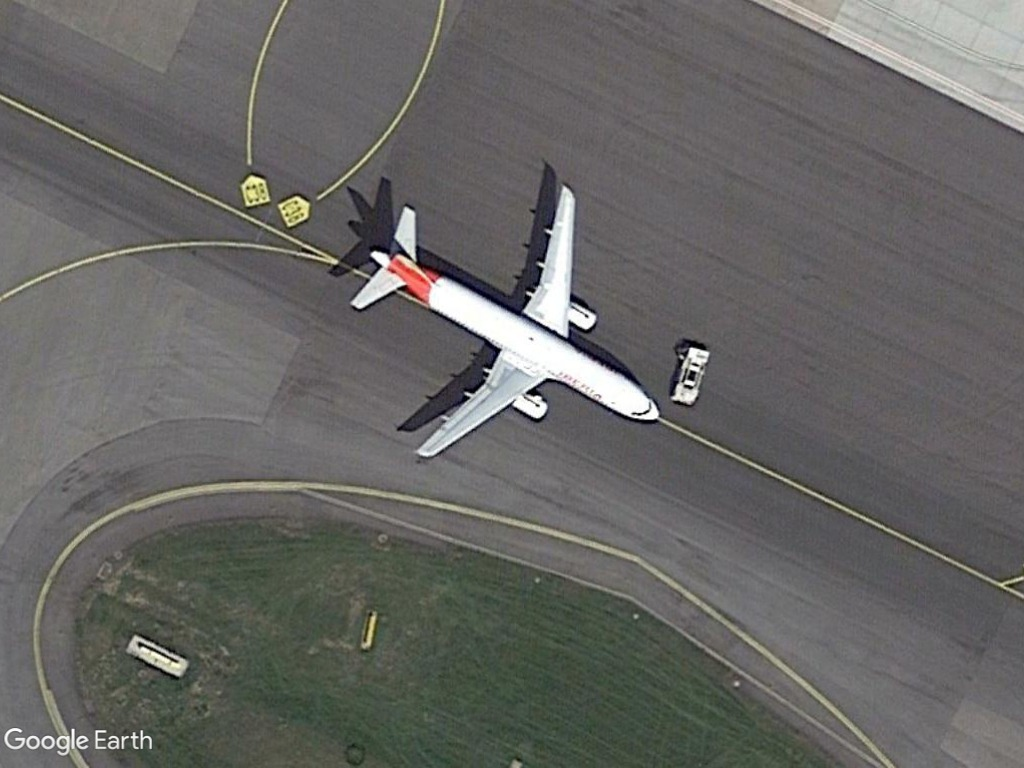airliner: (339, 179, 663, 459)
